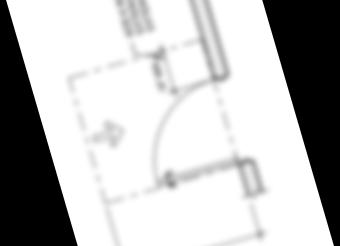door: (132, 76, 244, 187)
